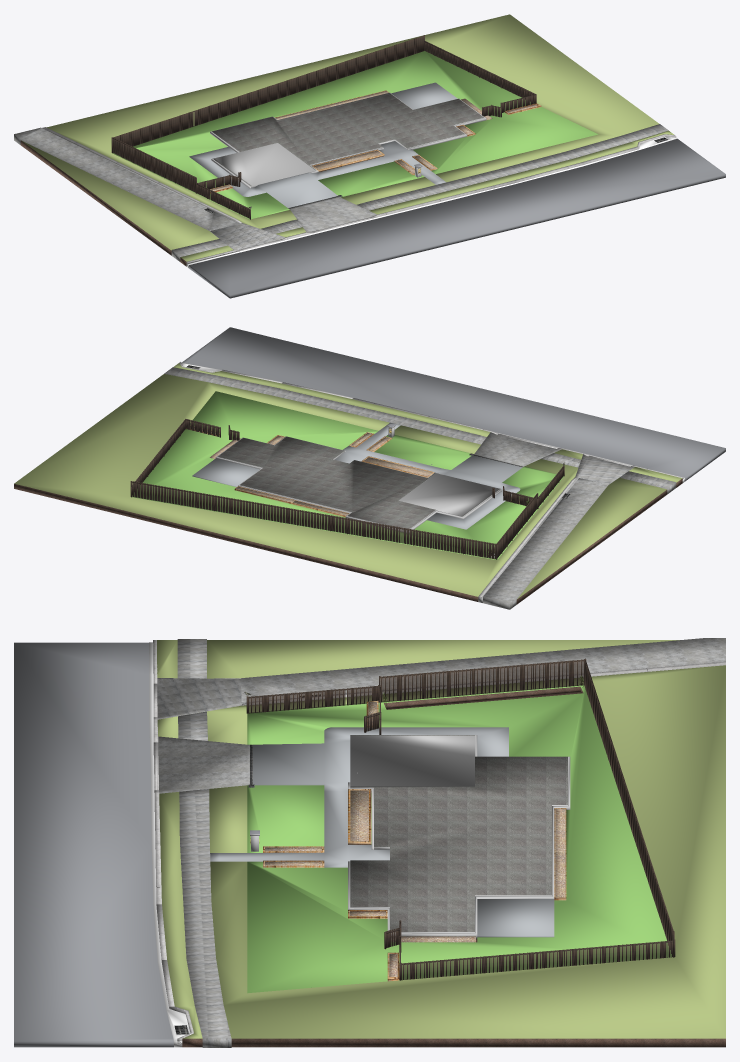
Rendered from template.fbx.
3 renders of one model, top to bottom at view 1: azimuth 30°, elevation 25°; view 2: azimuth 150°, elevation 25°; view 3: azimuth 270°, elevation 25°, orthographic. The views are drawn at different scales.
Parts seen in each view (by area): view 1: TR - 047.015, TR - 047.017, TR - 047.012, SLA - 035.003, TR - 047.011, TR - 048.012, TR - 047.013, TR - 048.004, TR - 047.014, TR - 047.016, SLA - 035, SLA - 035.001 (+3 smaller); view 2: TR - 047.015, TR - 047.017, TR - 047.012, SLA - 035.003, TR - 047.011, TR - 048.012, TR - 047.013, TR - 048.004, TR - 047.014, SLA - 035, SLA - 035.001, TR - 047.010 (+2 smaller); view 3: TR - 047.015, TR - 047.017, TR - 047.012, SLA - 035.003, TR - 047.011, TR - 048.012, TR - 047.013, TR - 048.004, SLA - 035, TR - 047.014, TR - 047.016, SLA - 035.001 (+5 smaller).
Part boxes in pixels (left/top/right/bottom): TR - 047.015: left=20, top=14, right=674, bottom=266; TR - 047.017: left=189, top=138, right=725, bottom=298; TR - 047.012: left=112, top=51, right=598, bottom=219; SLA - 035.003: left=212, top=93, right=484, bottom=187; TR - 047.011: left=14, top=127, right=238, bottom=236; TR - 048.012: left=189, top=141, right=445, bottom=207; TR - 047.013: left=357, top=124, right=668, bottom=210; TR - 048.004: left=289, top=196, right=376, bottom=232; TR - 047.014: left=63, top=138, right=284, bottom=249; TR - 047.016: left=186, top=136, right=677, bottom=268; SLA - 035: left=391, top=82, right=457, bottom=109; SLA - 035.001: left=210, top=92, right=486, bottom=188; TR - 047.015: left=14, top=363, right=682, bottom=604; TR - 047.017: left=182, top=327, right=725, bottom=481; TR - 047.012: left=132, top=391, right=563, bottom=559; SLA - 035.003: left=217, top=436, right=500, bottom=530; TR - 047.011: left=483, top=478, right=615, bottom=609; TR - 048.012: left=335, top=422, right=522, bottom=529; TR - 047.013: left=164, top=367, right=486, bottom=444; TR - 048.004: left=474, top=432, right=561, bottom=466; TR - 047.014: left=478, top=454, right=634, bottom=602; SLA - 035: left=192, top=458, right=259, bottom=486; SLA - 035.001: left=215, top=436, right=501, bottom=532; TR - 047.010: left=478, top=477, right=576, bottom=597; TR - 047.015: left=157, top=640, right=725, bottom=1047; TR - 047.017: left=14, top=642, right=173, bottom=1047; TR - 047.012: left=247, top=684, right=671, bottom=993; SLA - 035.003: left=350, top=735, right=567, bottom=932; TR - 047.011: left=157, top=638, right=725, bottom=705; TR - 048.012: left=210, top=727, right=508, bottom=867; TR - 047.013: left=179, top=789, right=231, bottom=1047; TR - 048.004: left=158, top=736, right=249, bottom=793; SLA - 035: left=477, top=899, right=554, bottom=937; TR - 047.014: left=157, top=672, right=602, bottom=719; TR - 047.016: left=149, top=642, right=190, bottom=1047; SLA - 035.001: left=348, top=735, right=570, bottom=938.
Bounding box in the file's own units: 14459 × 595 × 10912.
